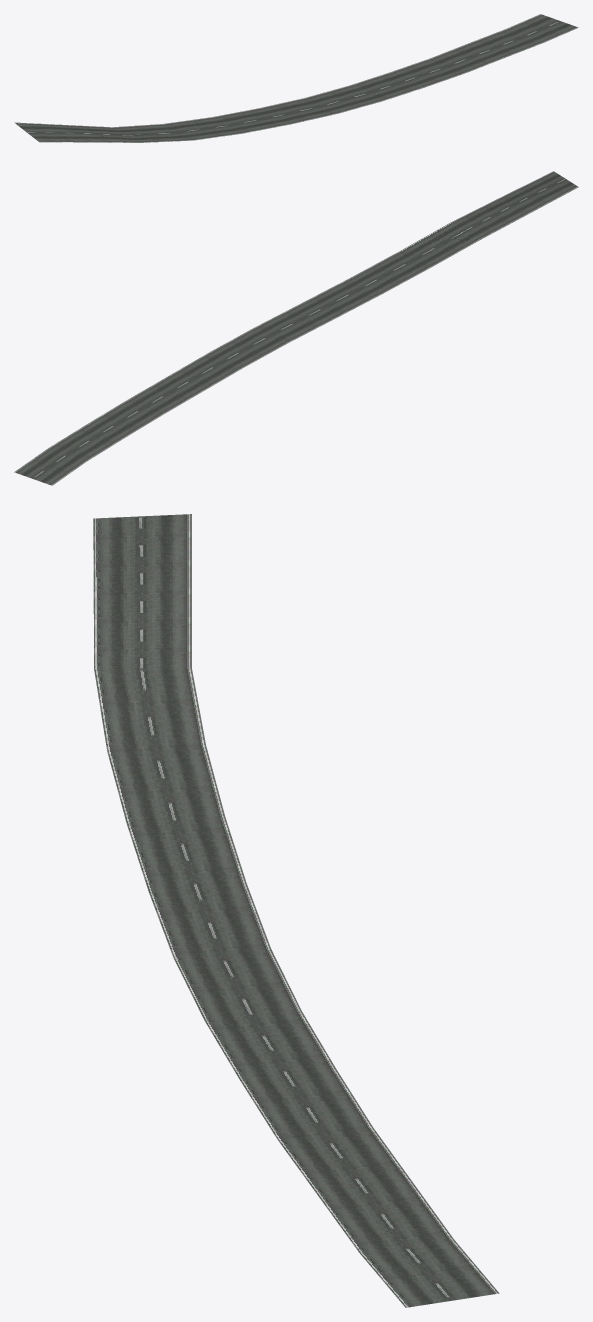
File: lodcuntwroad54.obj
3 renders of one model, top to bottom at view 1: azimuth 30°, elevation 25°; view 2: azimuth 210°, elevation 25°; view 3: azimuth 270°, elevation 25°, orthographic. The views are drawn at different scales.
Parts seen in each view (by area): view 1: LODcuntwroad54; view 2: LODcuntwroad54; view 3: LODcuntwroad54.
Boxes of the visible parts, x1,y1,x2,y2 form: LODcuntwroad54: [14, 14, 578, 142]; LODcuntwroad54: [14, 171, 578, 485]; LODcuntwroad54: [93, 514, 499, 1307].
Size of the model in its own units: 171 by 25.19 by 48.77.
Materials: 1 (1 with a texture image).
